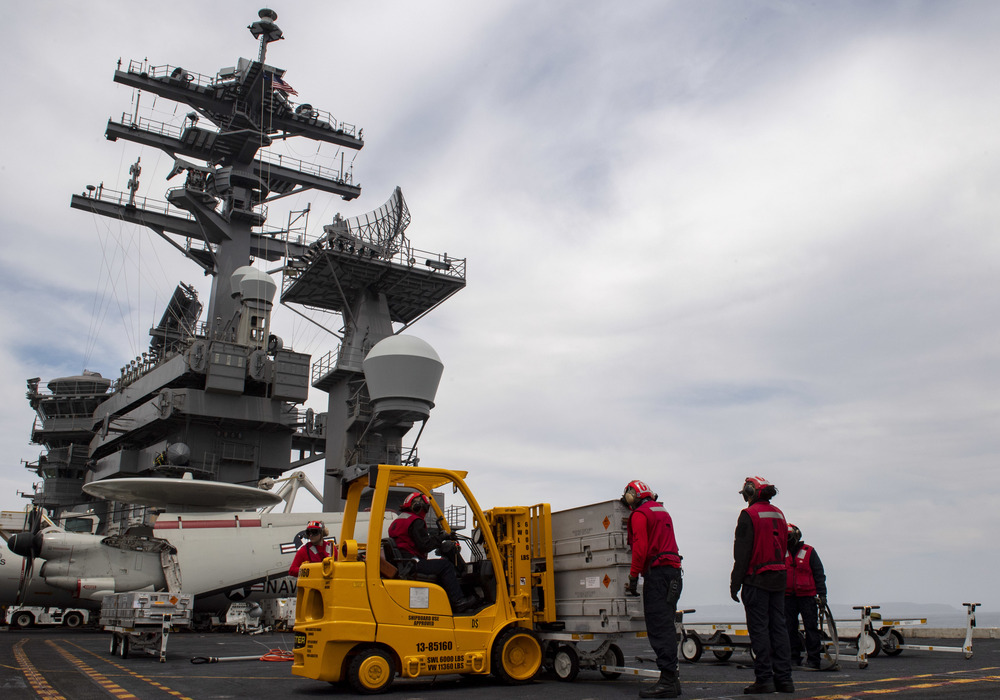E2: (1, 472, 399, 614)
